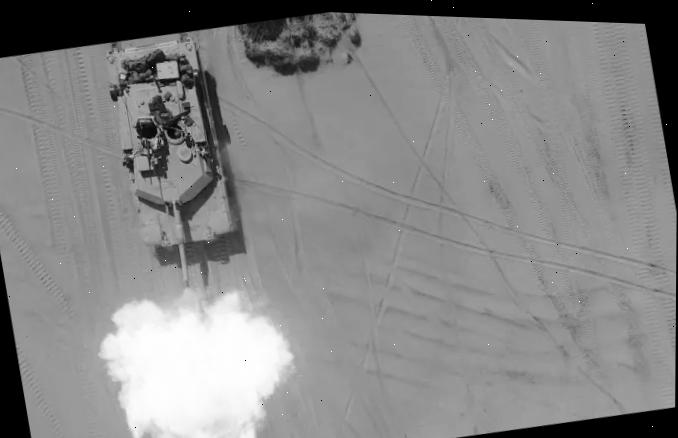tank: (94, 22, 259, 300)
